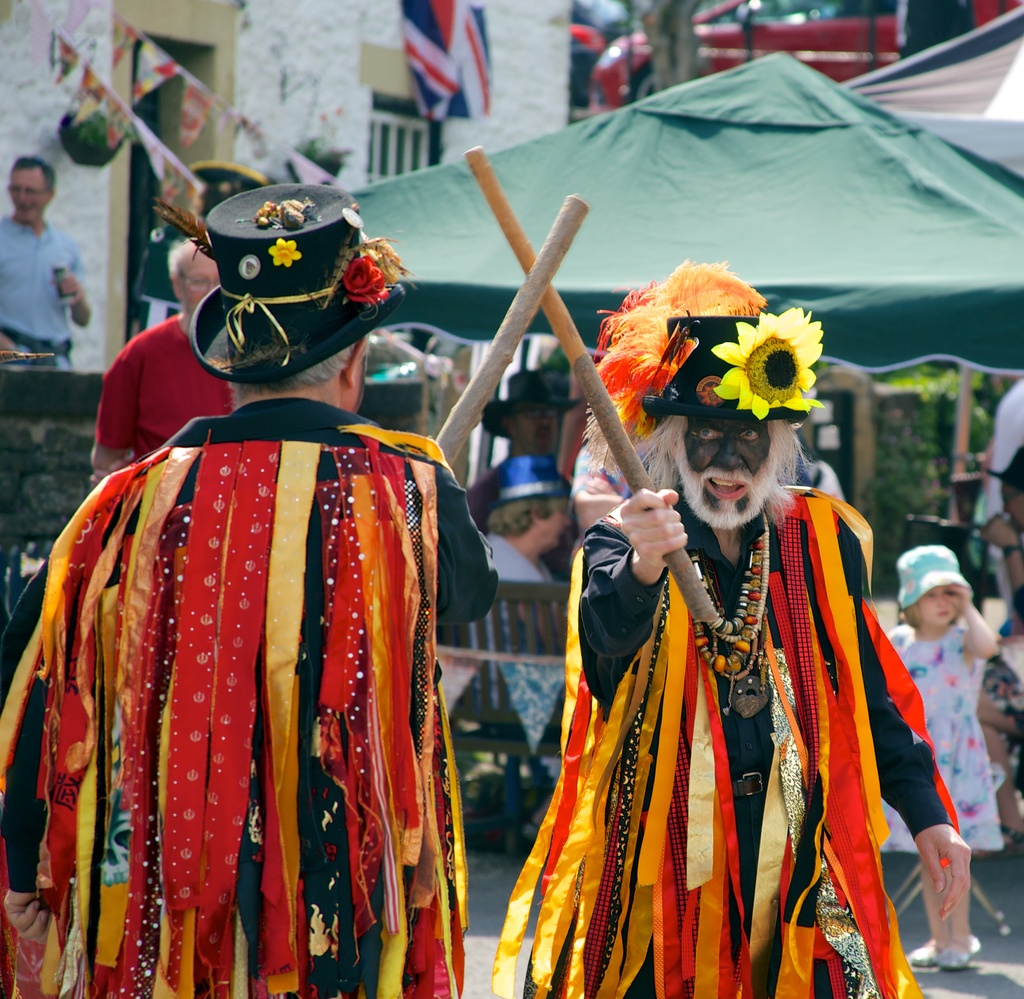Person: (0, 155, 1024, 999)
